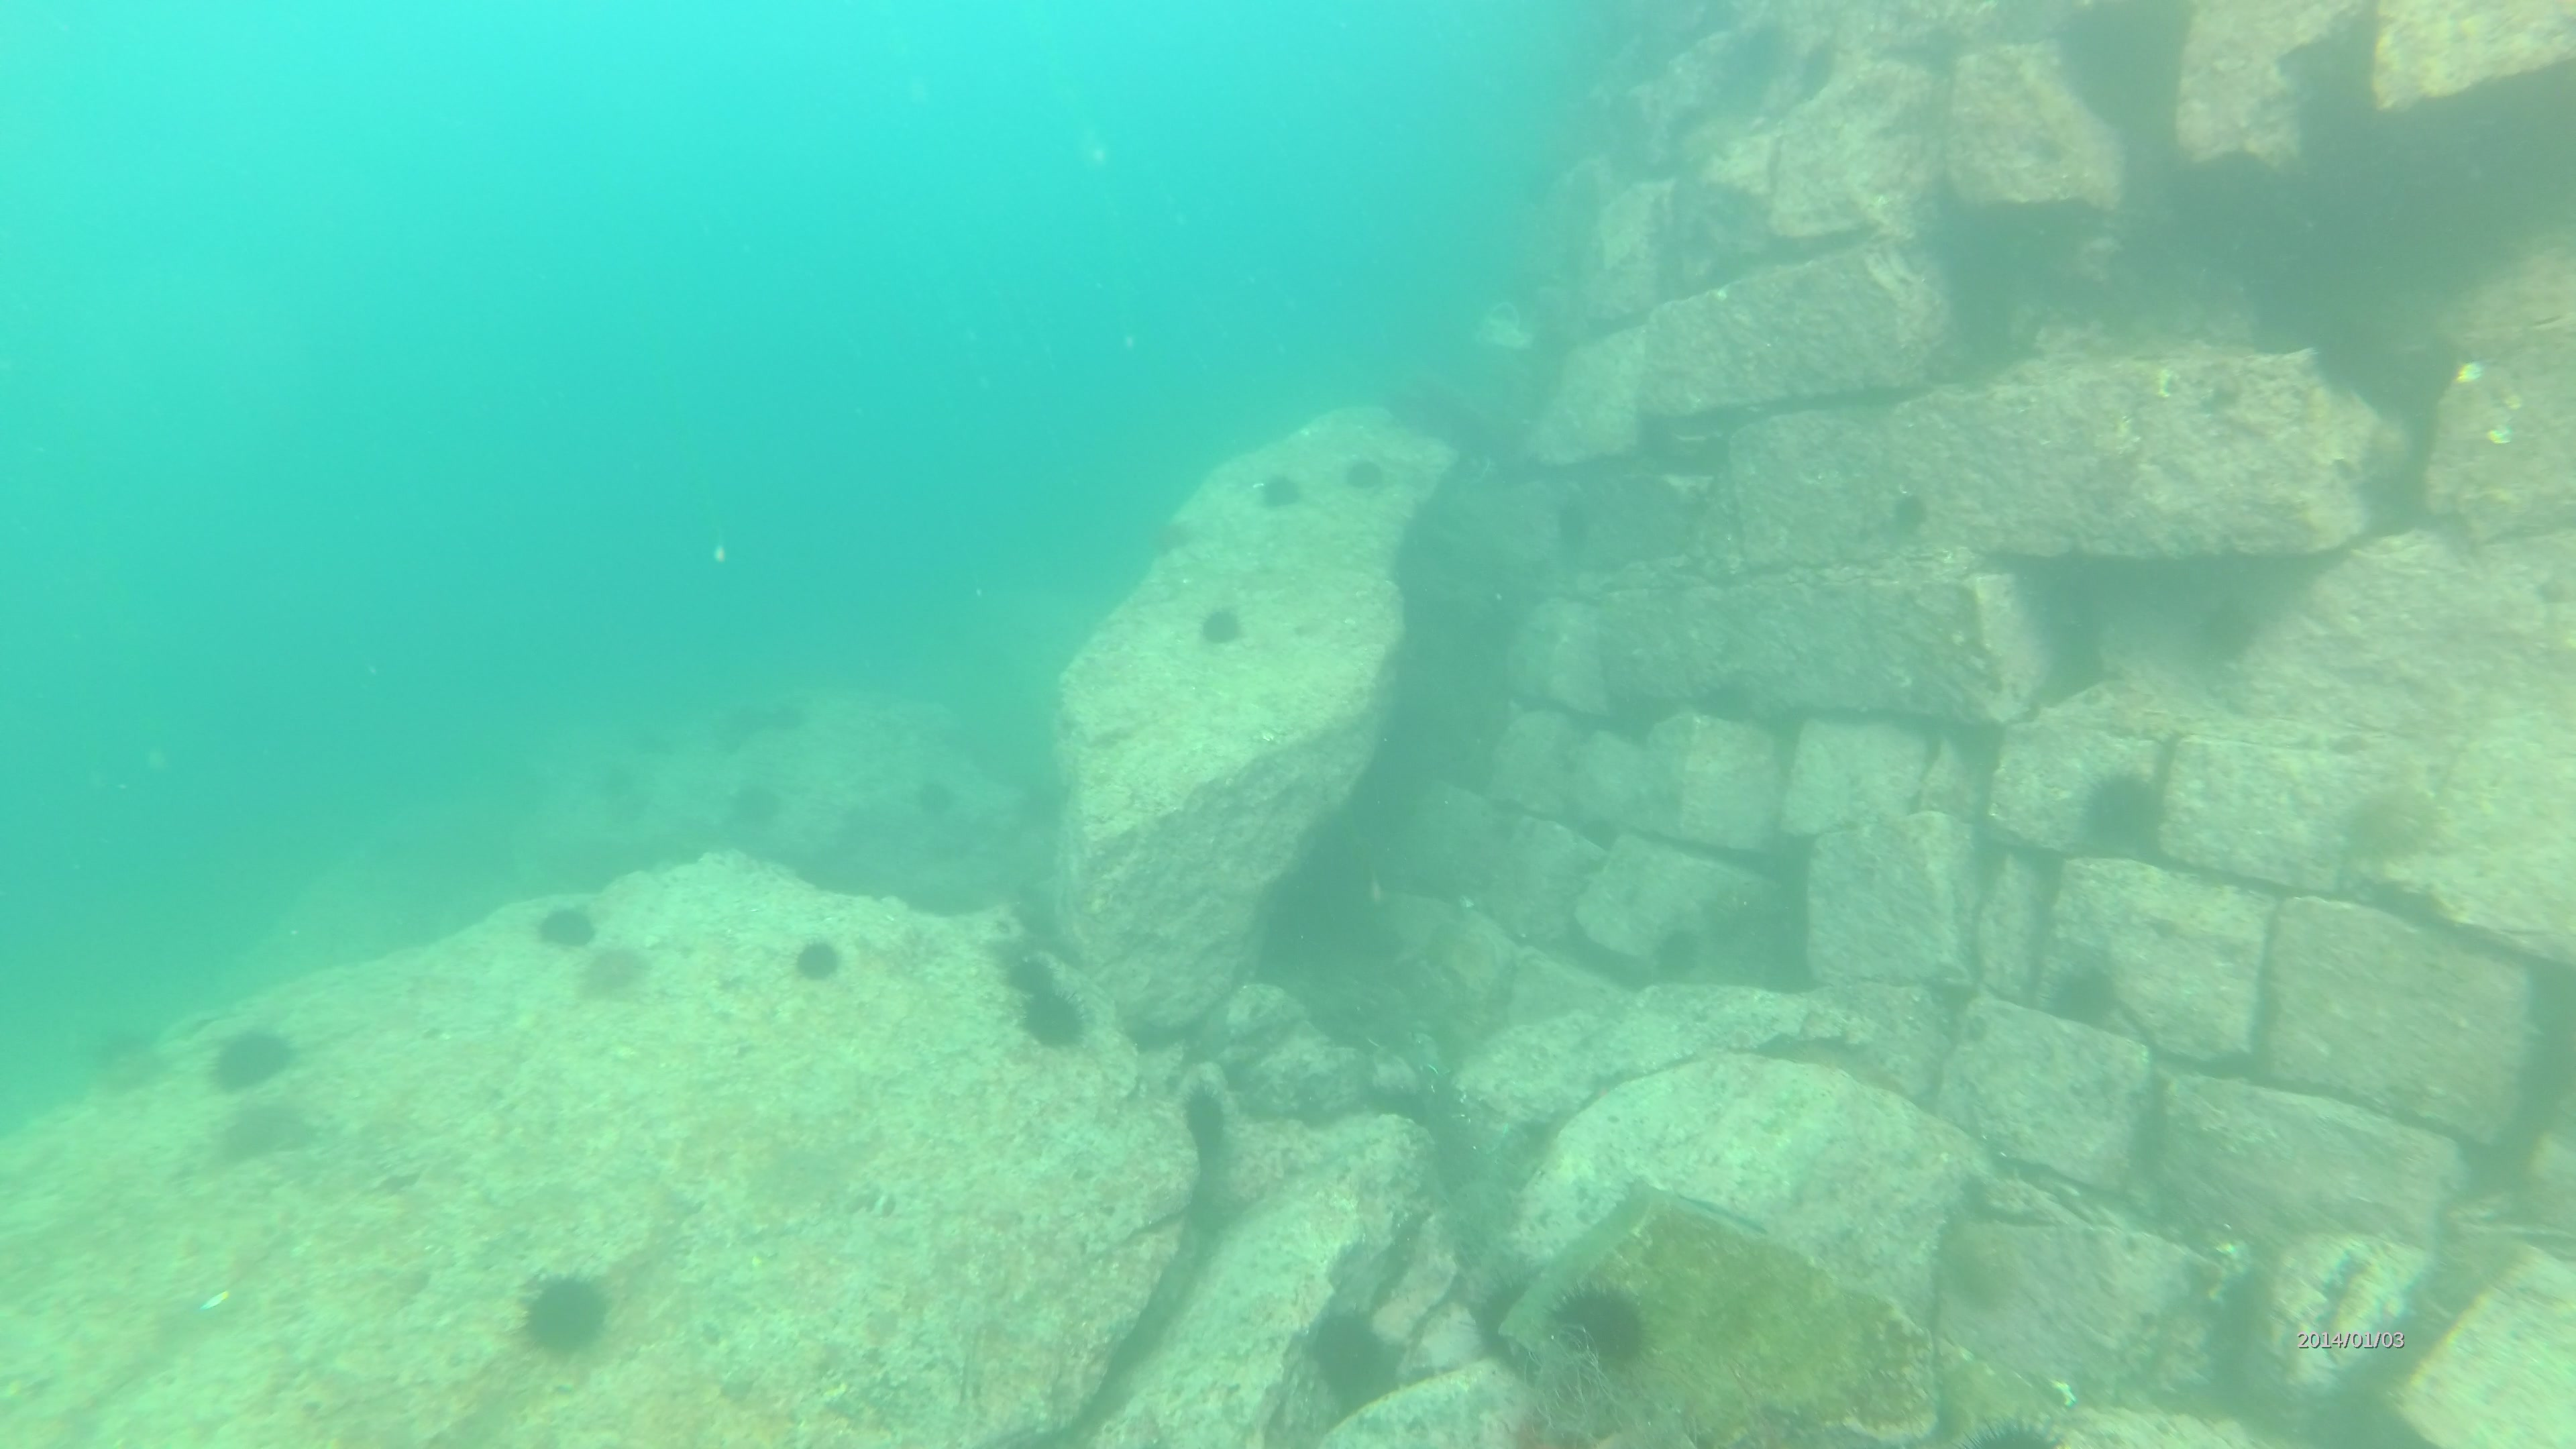echinus: (508, 1265, 633, 1371), (1550, 1269, 1649, 1376), (1307, 1299, 1403, 1396), (214, 1093, 306, 1173), (2093, 770, 2167, 862), (2362, 777, 2436, 863), (2038, 957, 2121, 1033), (211, 1024, 299, 1092), (579, 938, 656, 1010), (1182, 1072, 1240, 1164), (2192, 594, 2275, 658), (1644, 925, 1713, 994), (529, 893, 603, 957), (108, 1024, 173, 1093), (589, 757, 649, 832), (1951, 1412, 2070, 1449), (897, 770, 971, 824), (1024, 1000, 1095, 1056), (994, 941, 1058, 1001), (1543, 497, 1603, 556), (734, 773, 789, 832), (1884, 490, 1934, 548), (1143, 517, 1203, 563), (793, 927, 837, 985), (1343, 449, 1394, 497), (1254, 467, 1309, 511), (1192, 605, 1251, 646)
